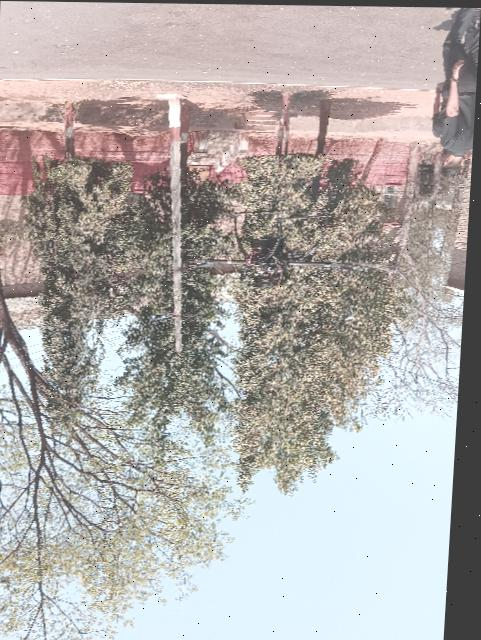drone: (157, 207, 385, 305)
